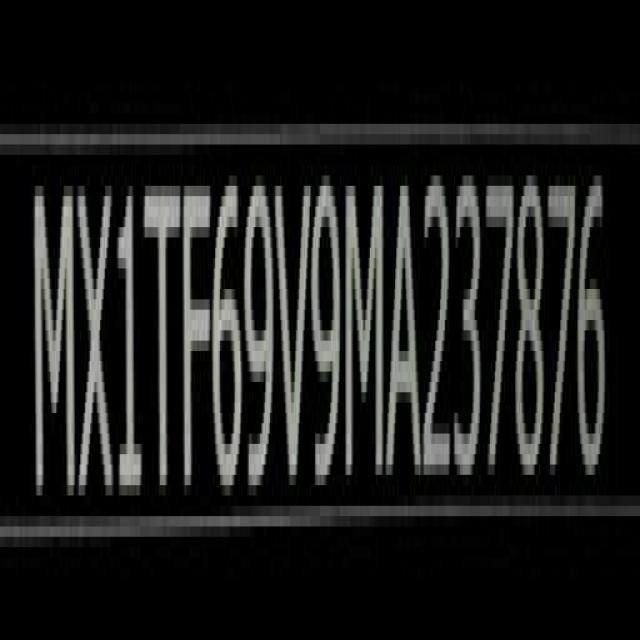2: (424, 175, 452, 490)
3: (457, 175, 483, 493)
6: (212, 182, 244, 509), (576, 168, 608, 482)
7: (486, 171, 514, 490), (551, 171, 576, 489)
8: (518, 173, 546, 489)
9: (246, 182, 276, 509), (311, 181, 341, 498)
A: (390, 176, 424, 490)
F: (183, 176, 211, 514)
L: (116, 181, 144, 515)
M: (36, 180, 74, 514), (345, 178, 385, 492)
T: (147, 177, 178, 514)
V: (280, 176, 310, 504)
X: (79, 179, 115, 517)
